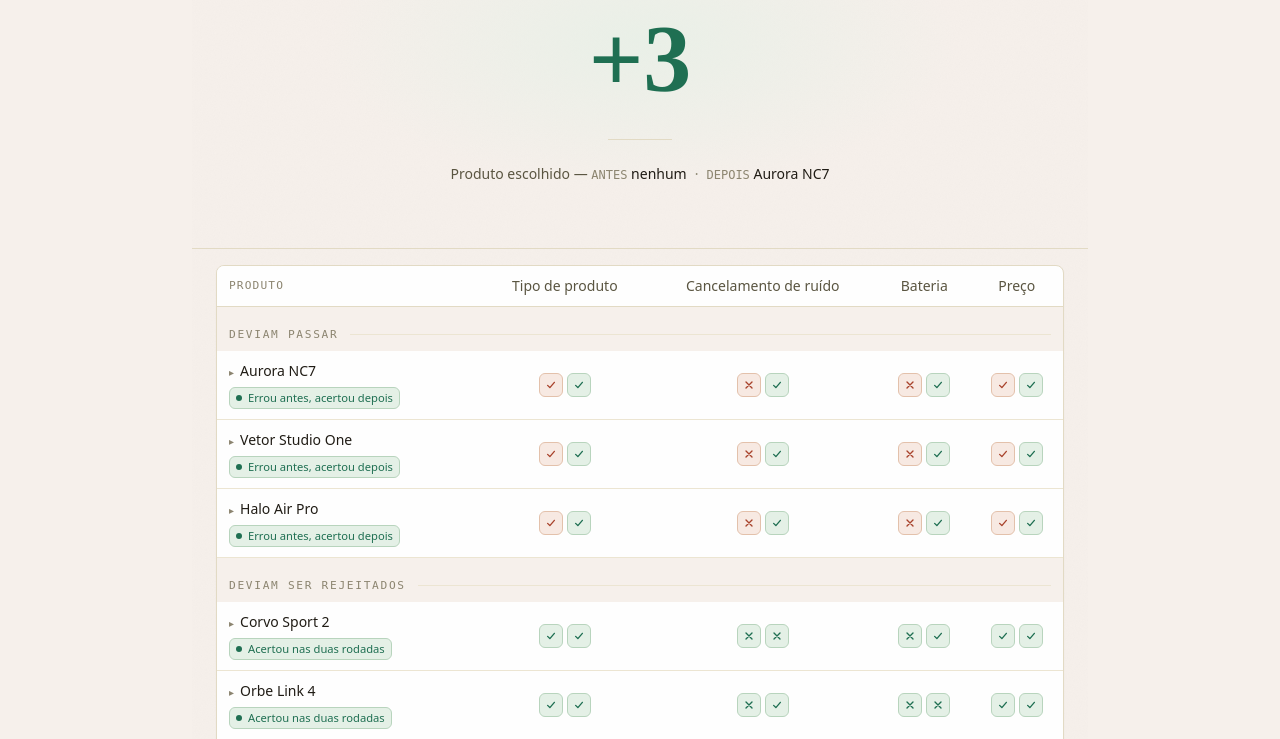
Test case: ComparisonView › shows the found value and the non-technical data origin for a product when its row is expanded
The width and height of the screenshot is (1280, 739).
(page scrolled)
Click the button "▸ Aurora NC7 Errou antes, acertou depois". click: (314, 385)
box: [225, 357, 404, 413]
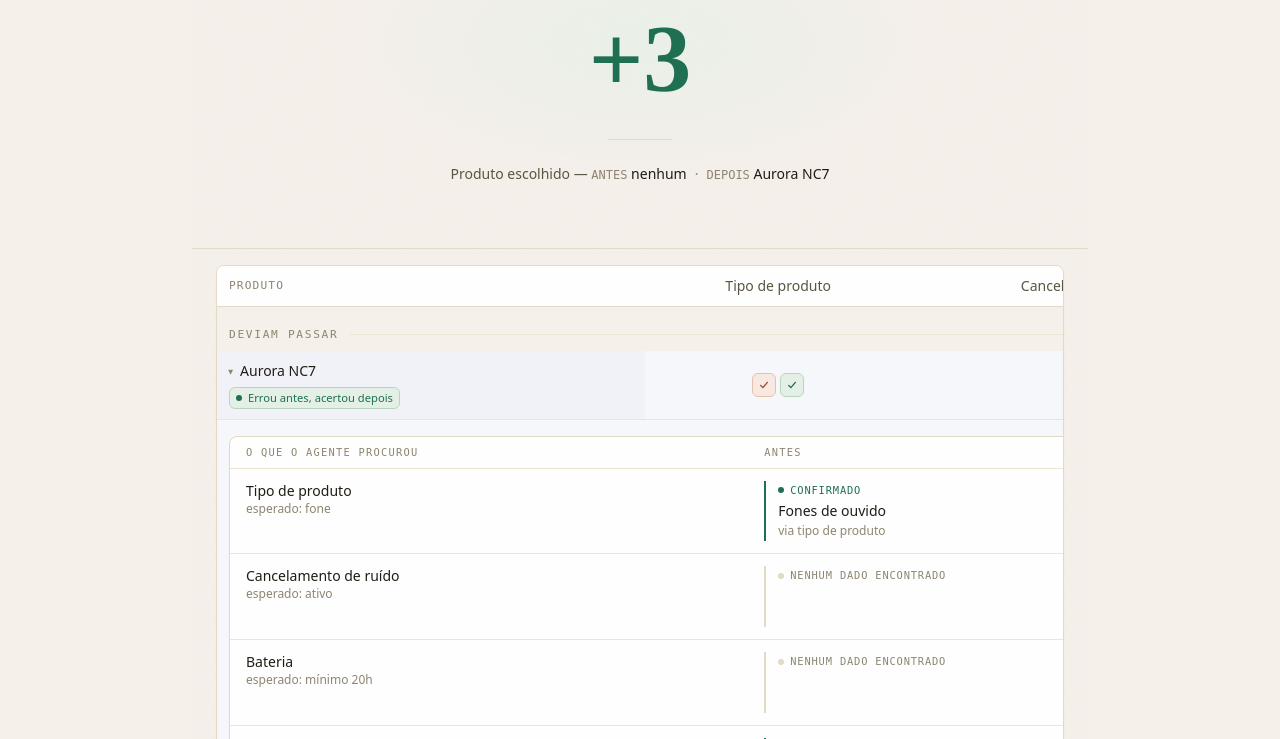
Now the text "via tipo de produto" is shown, box [778, 522, 886, 539]
